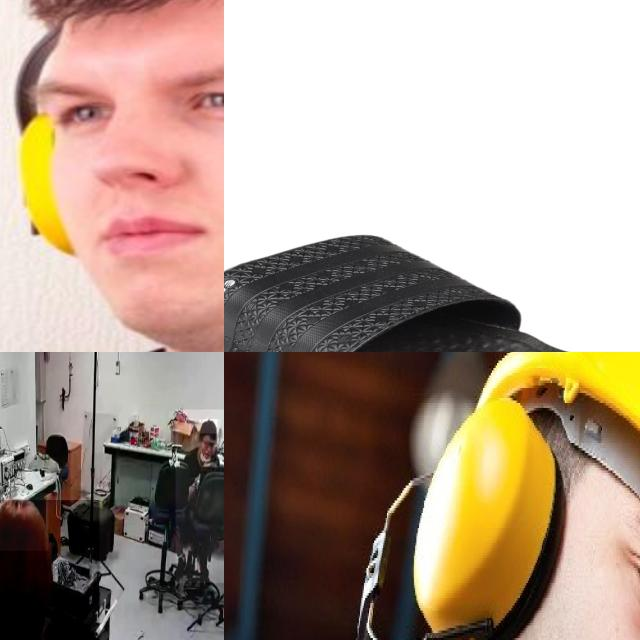Ear-protection: (0, 0, 224, 318), (405, 385, 565, 640)
No_Glasses: (32, 51, 224, 161)
Sandals: (224, 232, 607, 352)
head_helmet: (468, 352, 640, 640)
head_nohelmet: (0, 493, 49, 551), (200, 420, 218, 434)
person: (0, 500, 100, 640), (175, 409, 224, 583)
